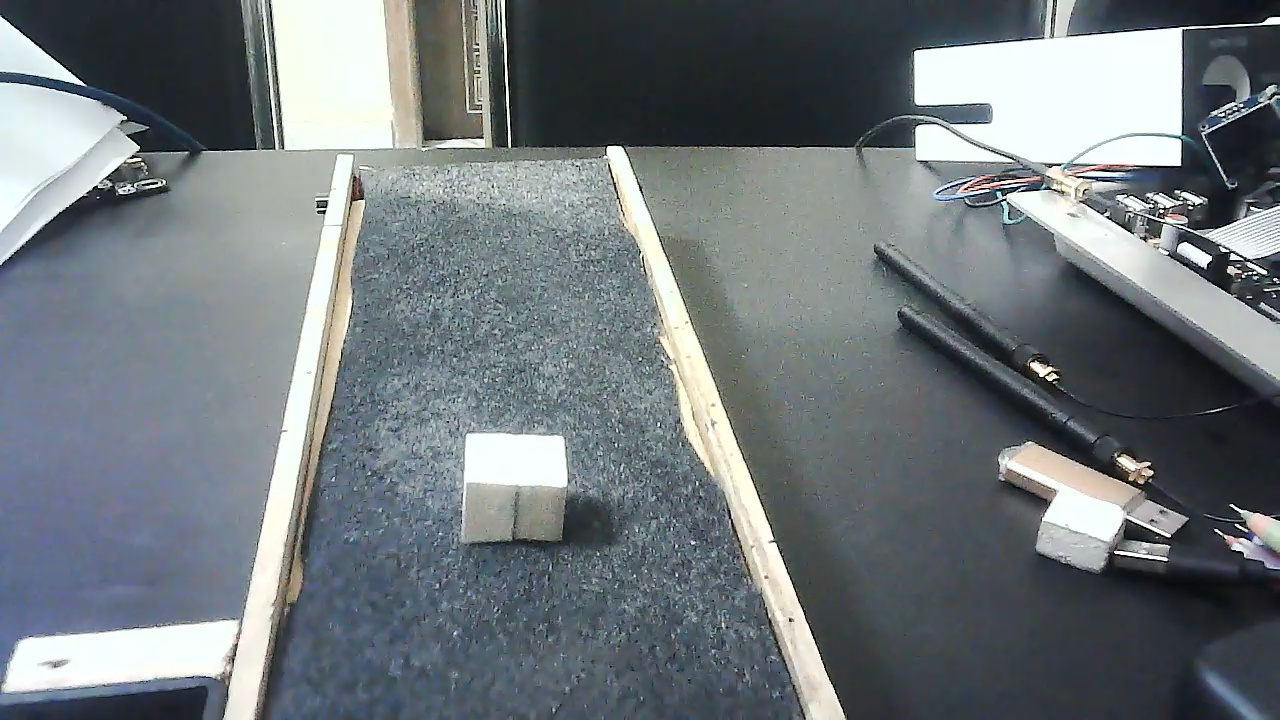Small: (461, 432, 569, 540)
